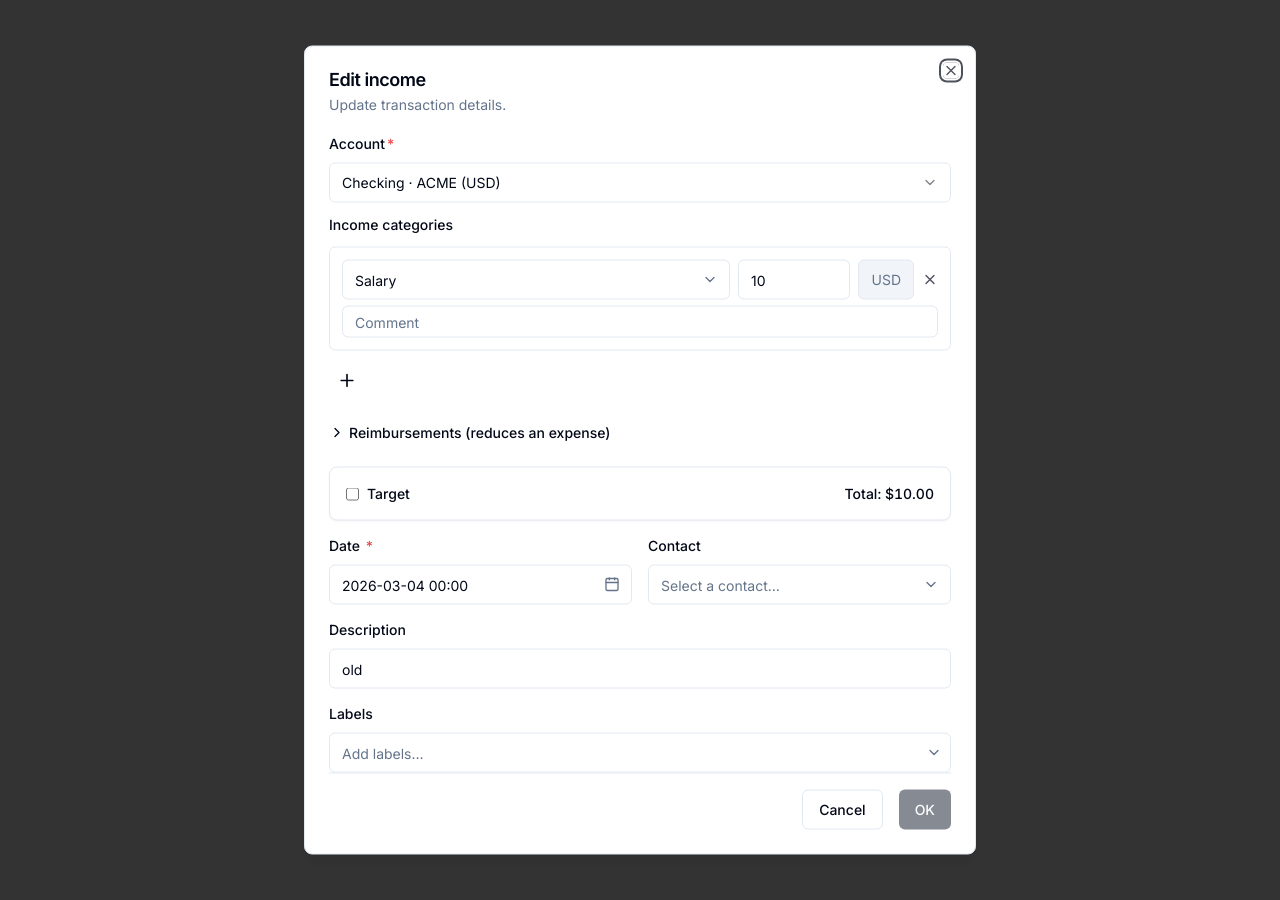
Test: EditTransactionDialog › first-failure surfaces a banner and stops further requests
Replace the text in the number field named "Amount" with "25" at (794, 280), box [738,260,850,300]
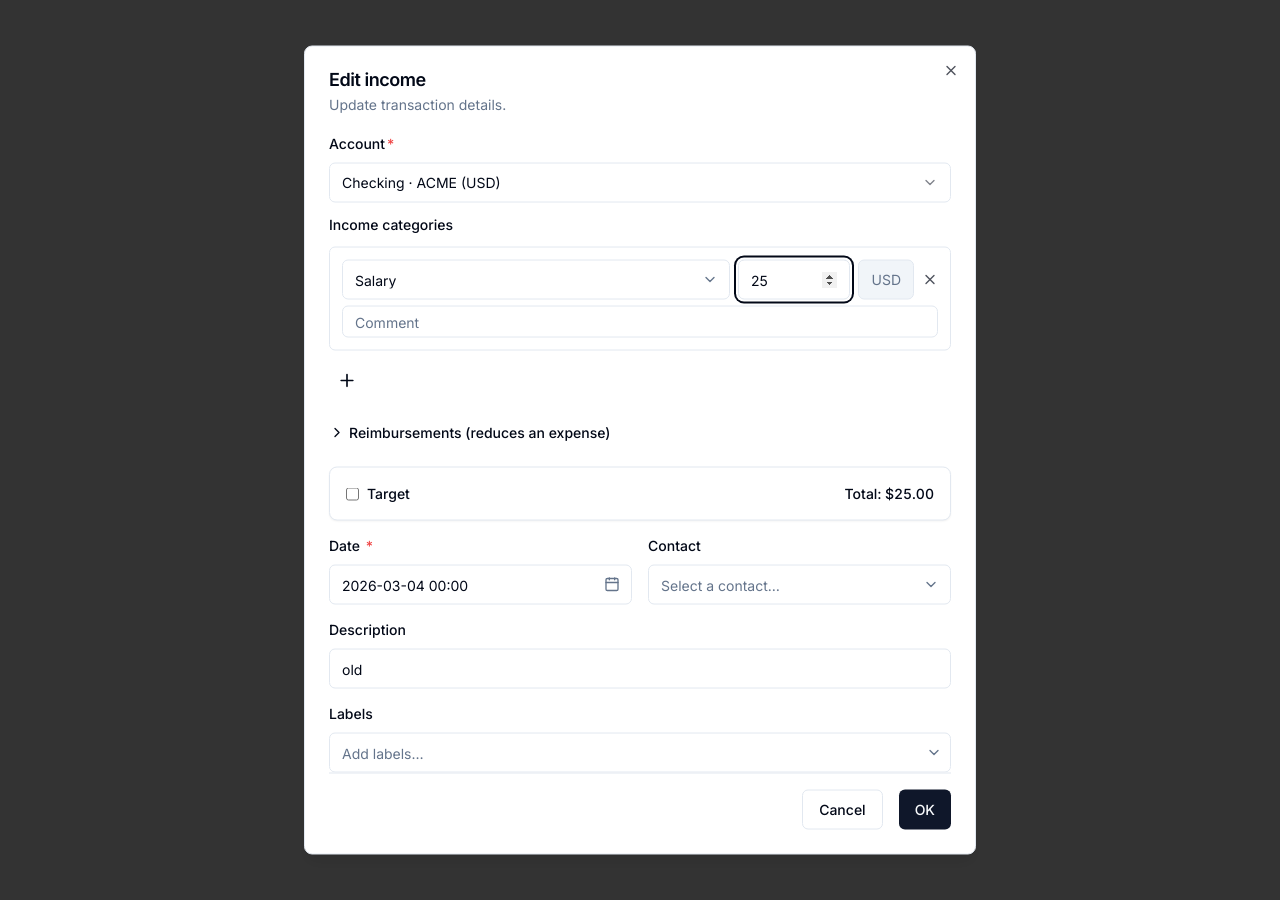
Click the button "OK" at (925, 810), box [899,790,951,830]
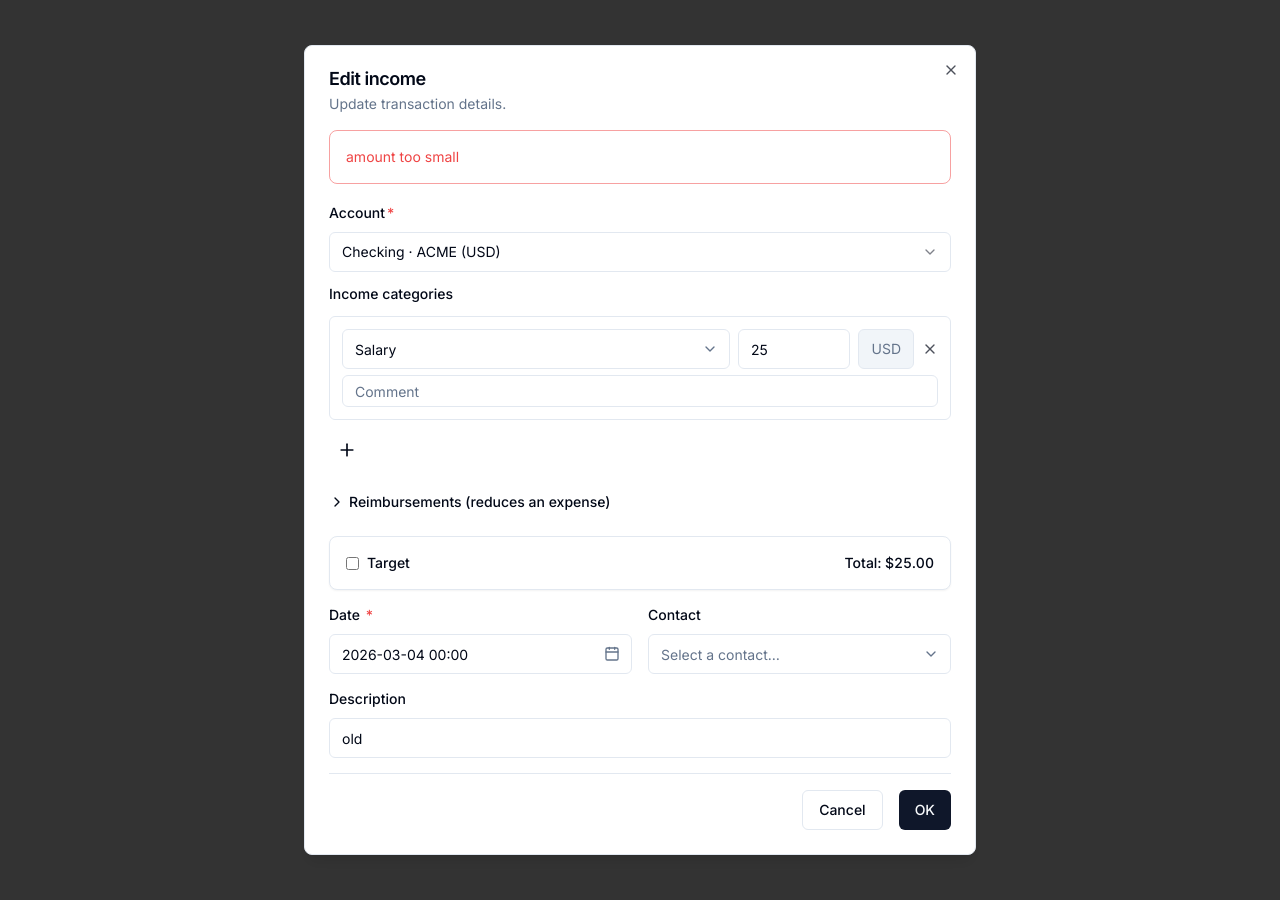
Now the message reads "amount too small", box [346,148,459,165]
